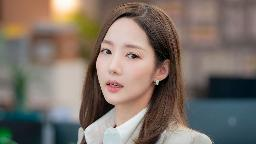face: (98, 18, 156, 104)
